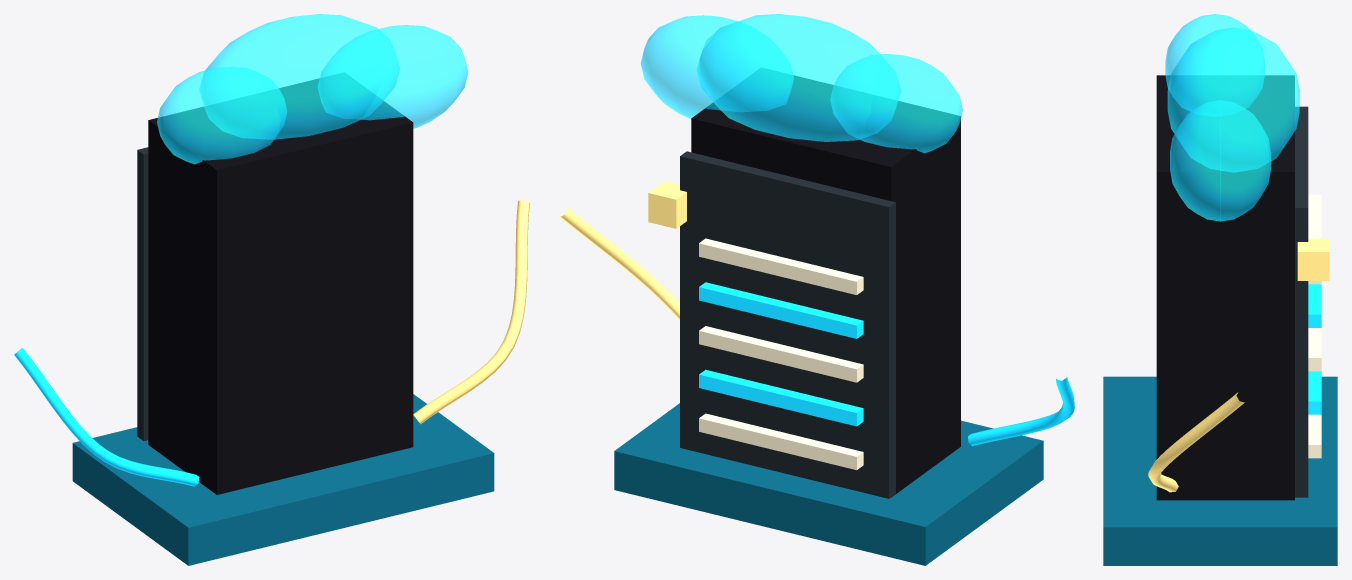
Rendered from server-cloud-node.glb.
3 renders of one model, left to right at view 1: azimuth 30°, elevation 25°; view 2: azimuth 150°, elevation 25°; view 3: azimuth 270°, elevation 25°, orthographic.
Parts seen in each view (by area): view 1: rack-body, cloud-dock-base, cloud-core, cloud-right, cloud-left, rack-face, cable-bus-right, cable-bus-left; view 2: rack-face, rack-body, cloud-dock-base, cloud-core, cloud-right, cloud-left, server-slice-3, server-slice-2, server-slice-0, server-slice-1, server-slice-4, cable-bus-right (+2 smaller); view 3: rack-body, cloud-dock-base, cloud-core, cloud-right, cloud-left, rack-face, cable-bus-right, status-beacon, server-slice-4, server-slice-0, server-slice-1, server-slice-2 (+1 smaller).
Part boxes in pixels (<box>): rack-body: <box>148,78,413,494</box>; cloud-dock-base: <box>72,394,494,565</box>; cloud-core: <box>199,14,399,139</box>; cloud-right: <box>318,25,468,128</box>; cloud-left: <box>157,67,286,164</box>; rack-face: <box>137,147,148,440</box>; cable-bus-right: <box>413,200,529,424</box>; cable-bus-left: <box>14,348,199,486</box>; rack-face: <box>680,151,895,498</box>; rack-body: <box>691,75,960,497</box>; cloud-dock-base: <box>614,403,1043,565</box>; cloud-core: <box>697,14,900,141</box>; cloud-right: <box>640,15,793,118</box>; cloud-left: <box>831,54,962,153</box>; server-slice-3: <box>699,282,863,338</box>; server-slice-2: <box>699,326,863,382</box>; server-slice-0: <box>699,413,863,470</box>; server-slice-1: <box>699,369,863,426</box>; server-slice-4: <box>699,238,863,294</box>; cable-bus-right: <box>558,207,679,319</box>; rack-body: <box>1156,75,1294,500</box>; cloud-dock-base: <box>1103,376,1337,565</box>; cloud-core: <box>1167,27,1299,172</box>; cloud-right: <box>1170,100,1270,221</box>; cloud-left: <box>1165,14,1264,111</box>; rack-face: <box>1295,106,1308,497</box>; cable-bus-right: <box>1148,392,1244,492</box>; status-beacon: <box>1297,238,1329,280</box>; server-slice-4: <box>1308,194,1321,284</box>; server-slice-0: <box>1308,414,1321,458</box>; server-slice-1: <box>1308,371,1321,414</box>; server-slice-2: <box>1308,328,1321,371</box>.
Size of the model in its own units: 2.22 by 1.9 by 0.88.
